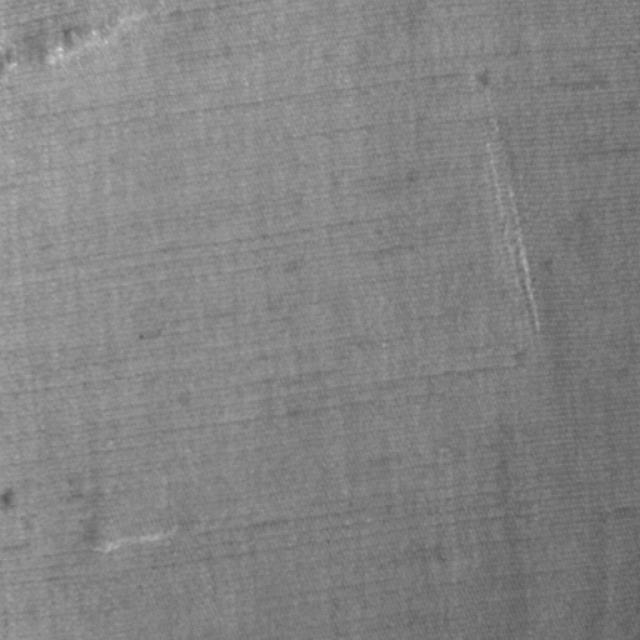thread error: (480, 106, 543, 356), (0, 0, 154, 79), (80, 491, 183, 561)
